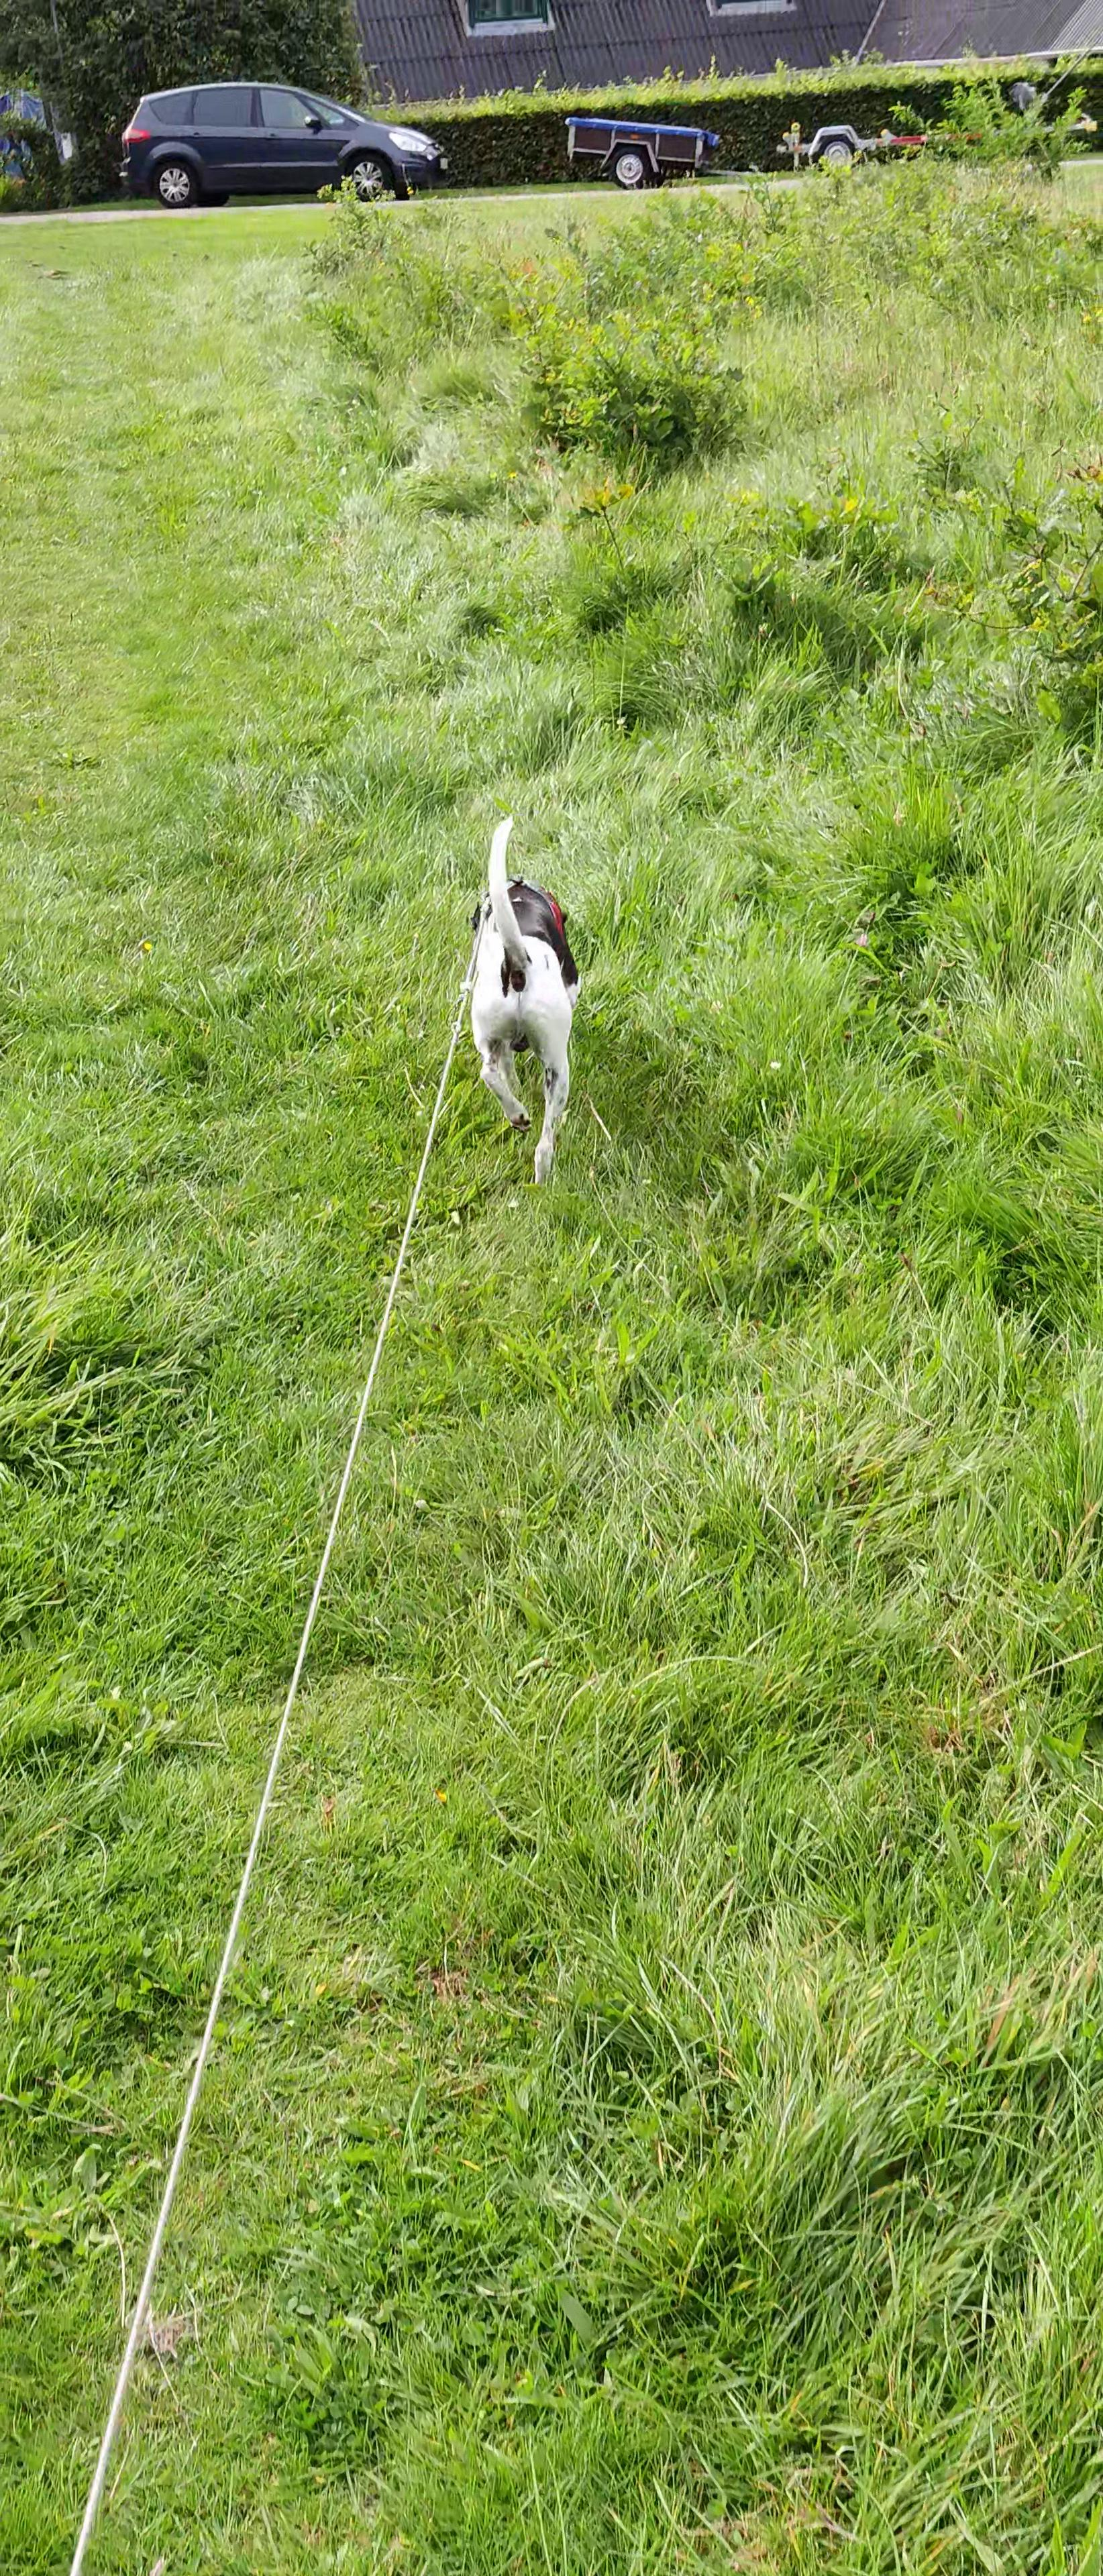Dog: (437, 795, 602, 1193)
